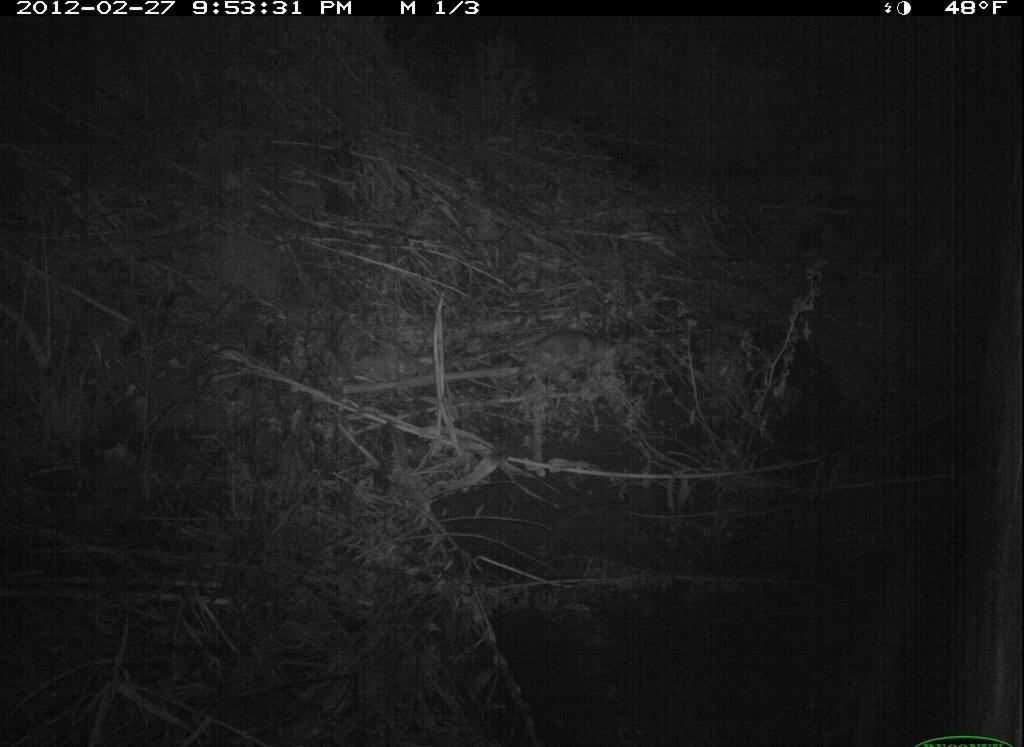opossum: (525, 320, 624, 400)
